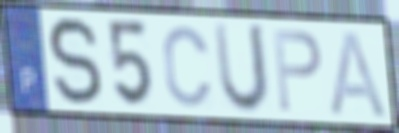5: (104, 17, 156, 111)
A: (328, 28, 391, 121)
C: (161, 23, 215, 111)
P: (270, 26, 324, 116)
S: (46, 14, 106, 110)
U: (211, 19, 271, 118)
